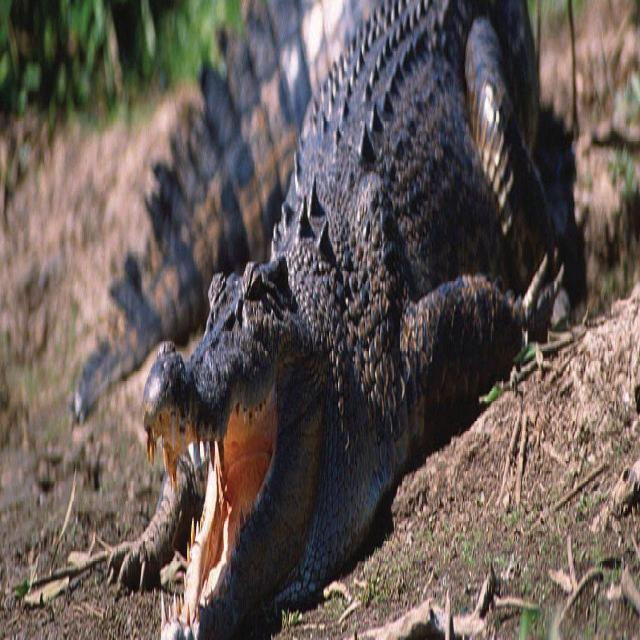crocodile: (68, 0, 573, 639)
